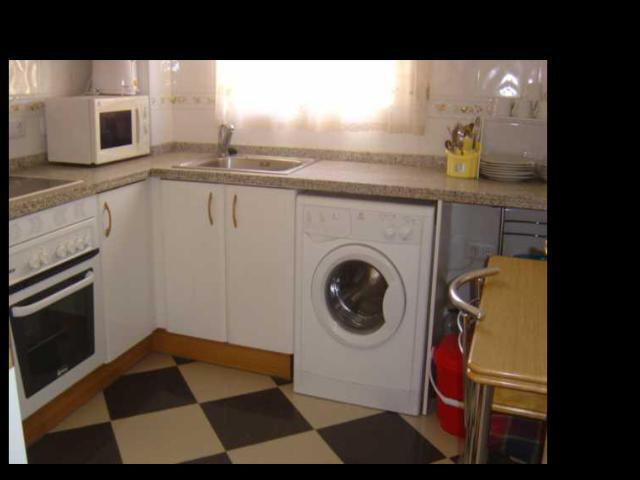Electrodomestico: (292, 189, 429, 419), (13, 203, 106, 414)
